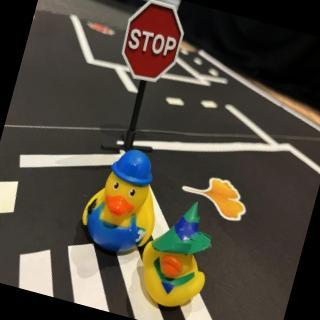duck_regular: (128, 193, 225, 319)
duck_specialty: (77, 144, 171, 263)
road_crosswalk: (1, 191, 194, 320)
sign_stop: (113, 1, 191, 90)
